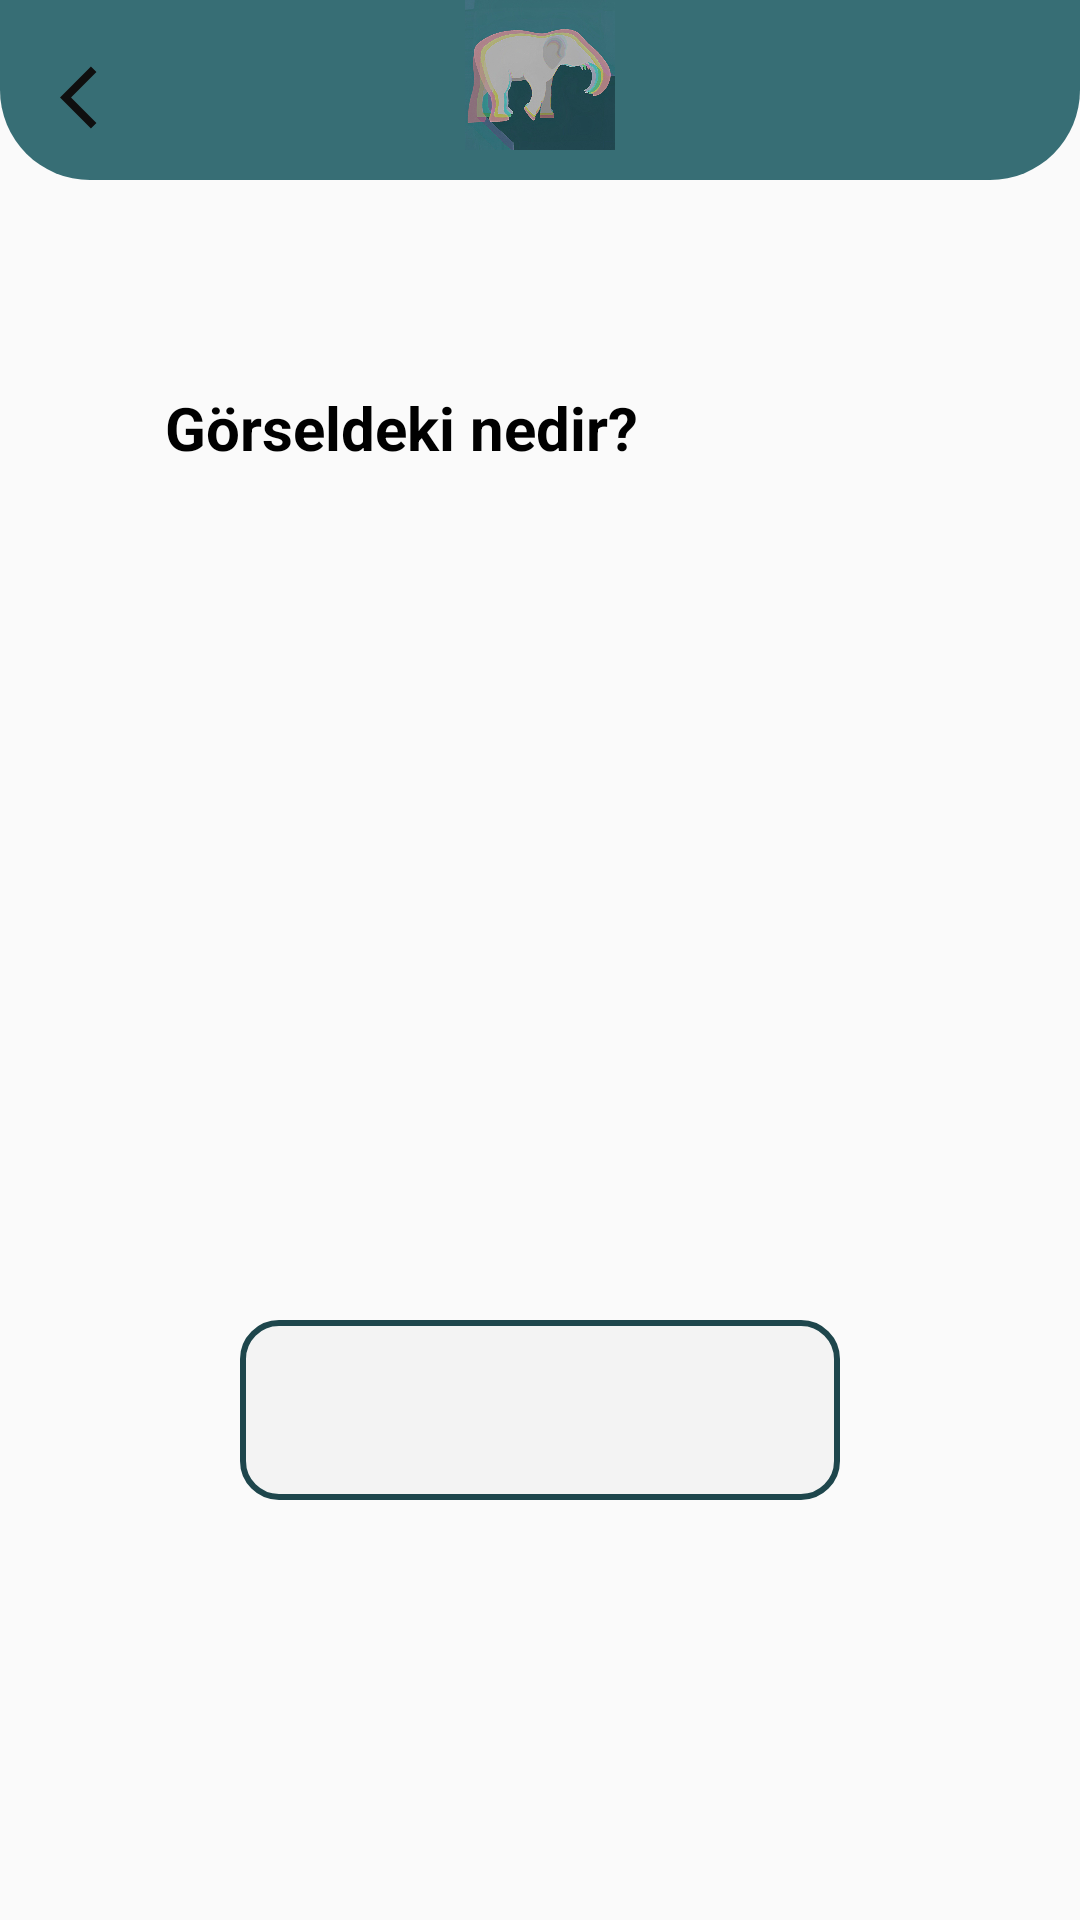

Where to tap for icons on this 1080w x 1920h app screen, as (x,y):
back: (78,97)
